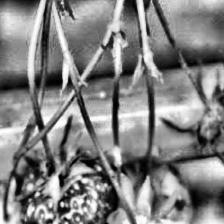Gray Mold: (162, 56, 224, 172)
